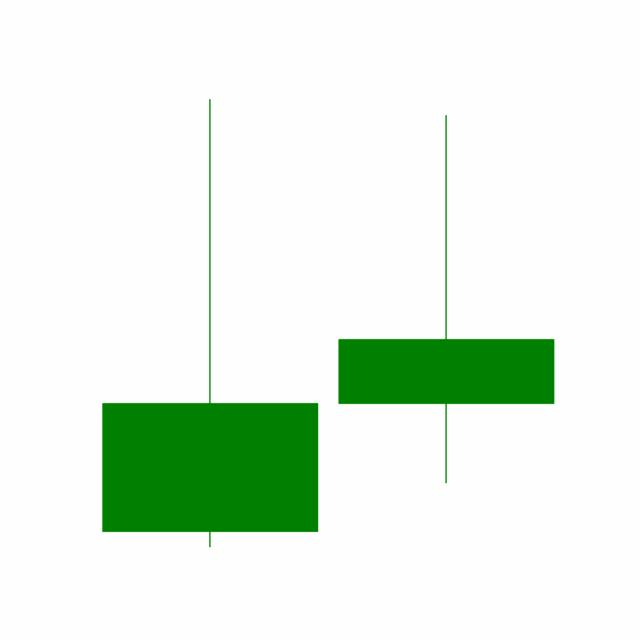Spinning Top: (327, 110, 565, 487)
